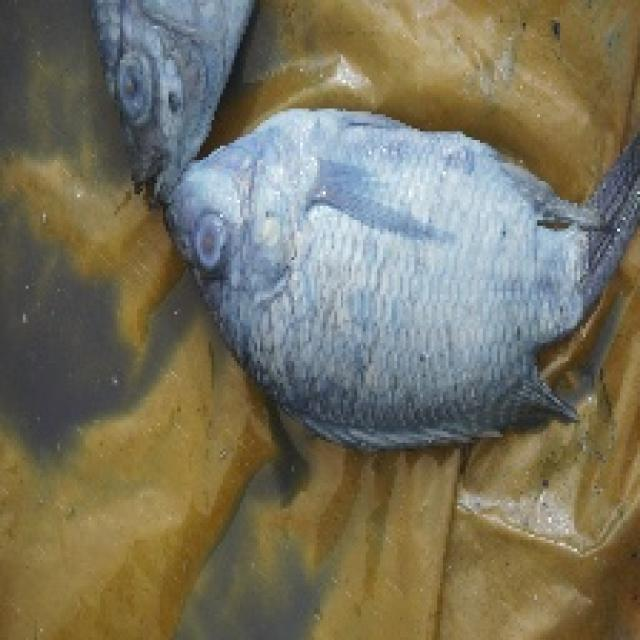Non-Fresh: (179, 140, 576, 436)
